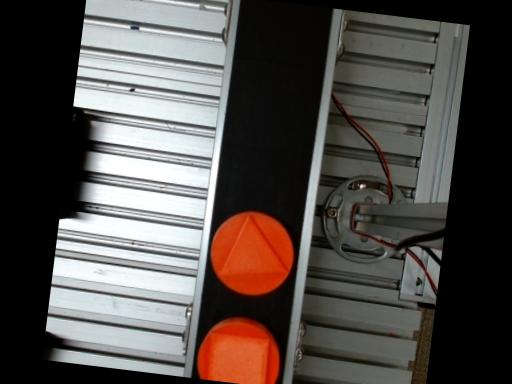Not_Square: (220, 211, 288, 274)
Orange_Waper: (211, 210, 293, 293), (198, 316, 279, 384)
Square: (209, 330, 271, 384)
